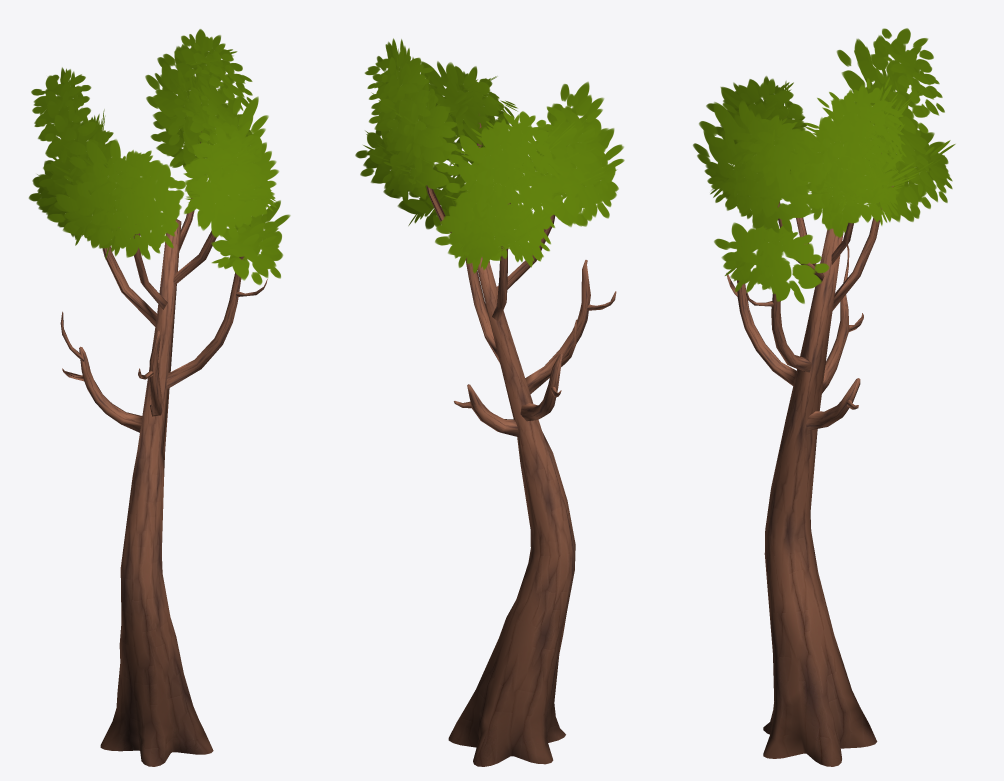
Rendered from tree-1.glb.
3 renders of one model, left to right at view 1: azimuth 30°, elevation 25°; view 2: azimuth 150°, elevation 25°; view 3: azimuth 270°, elevation 25°, orthographic. The views are drawn at different scales.
Parts seen in each view (by area): view 1: CommonTree_4; view 2: CommonTree_4; view 3: CommonTree_4.
Boxes of the visible parts, x1,y1,x2,y2 form: CommonTree_4: [28, 29, 290, 766]; CommonTree_4: [355, 38, 624, 766]; CommonTree_4: [693, 28, 955, 766].
Size of the model in its own units: 3.83 by 9.44 by 3.76.
Materials: 2 (2 with a texture image).
